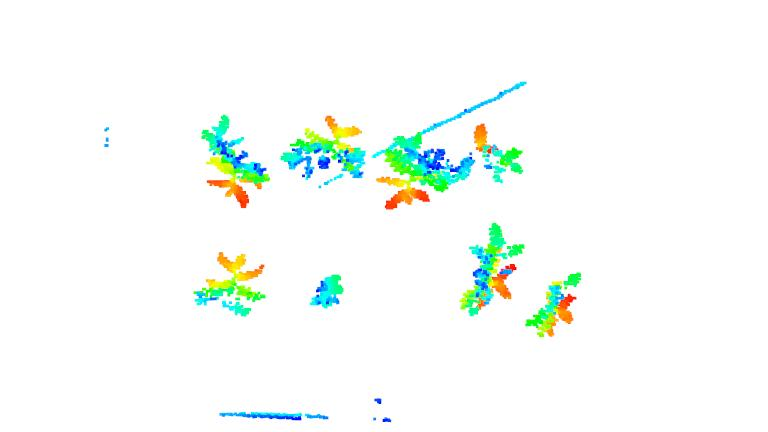chickpea: (384, 132, 472, 210), (200, 114, 270, 209), (458, 221, 525, 316), (187, 251, 273, 318), (279, 115, 367, 180), (524, 270, 582, 339), (473, 122, 526, 184), (308, 273, 348, 311)
